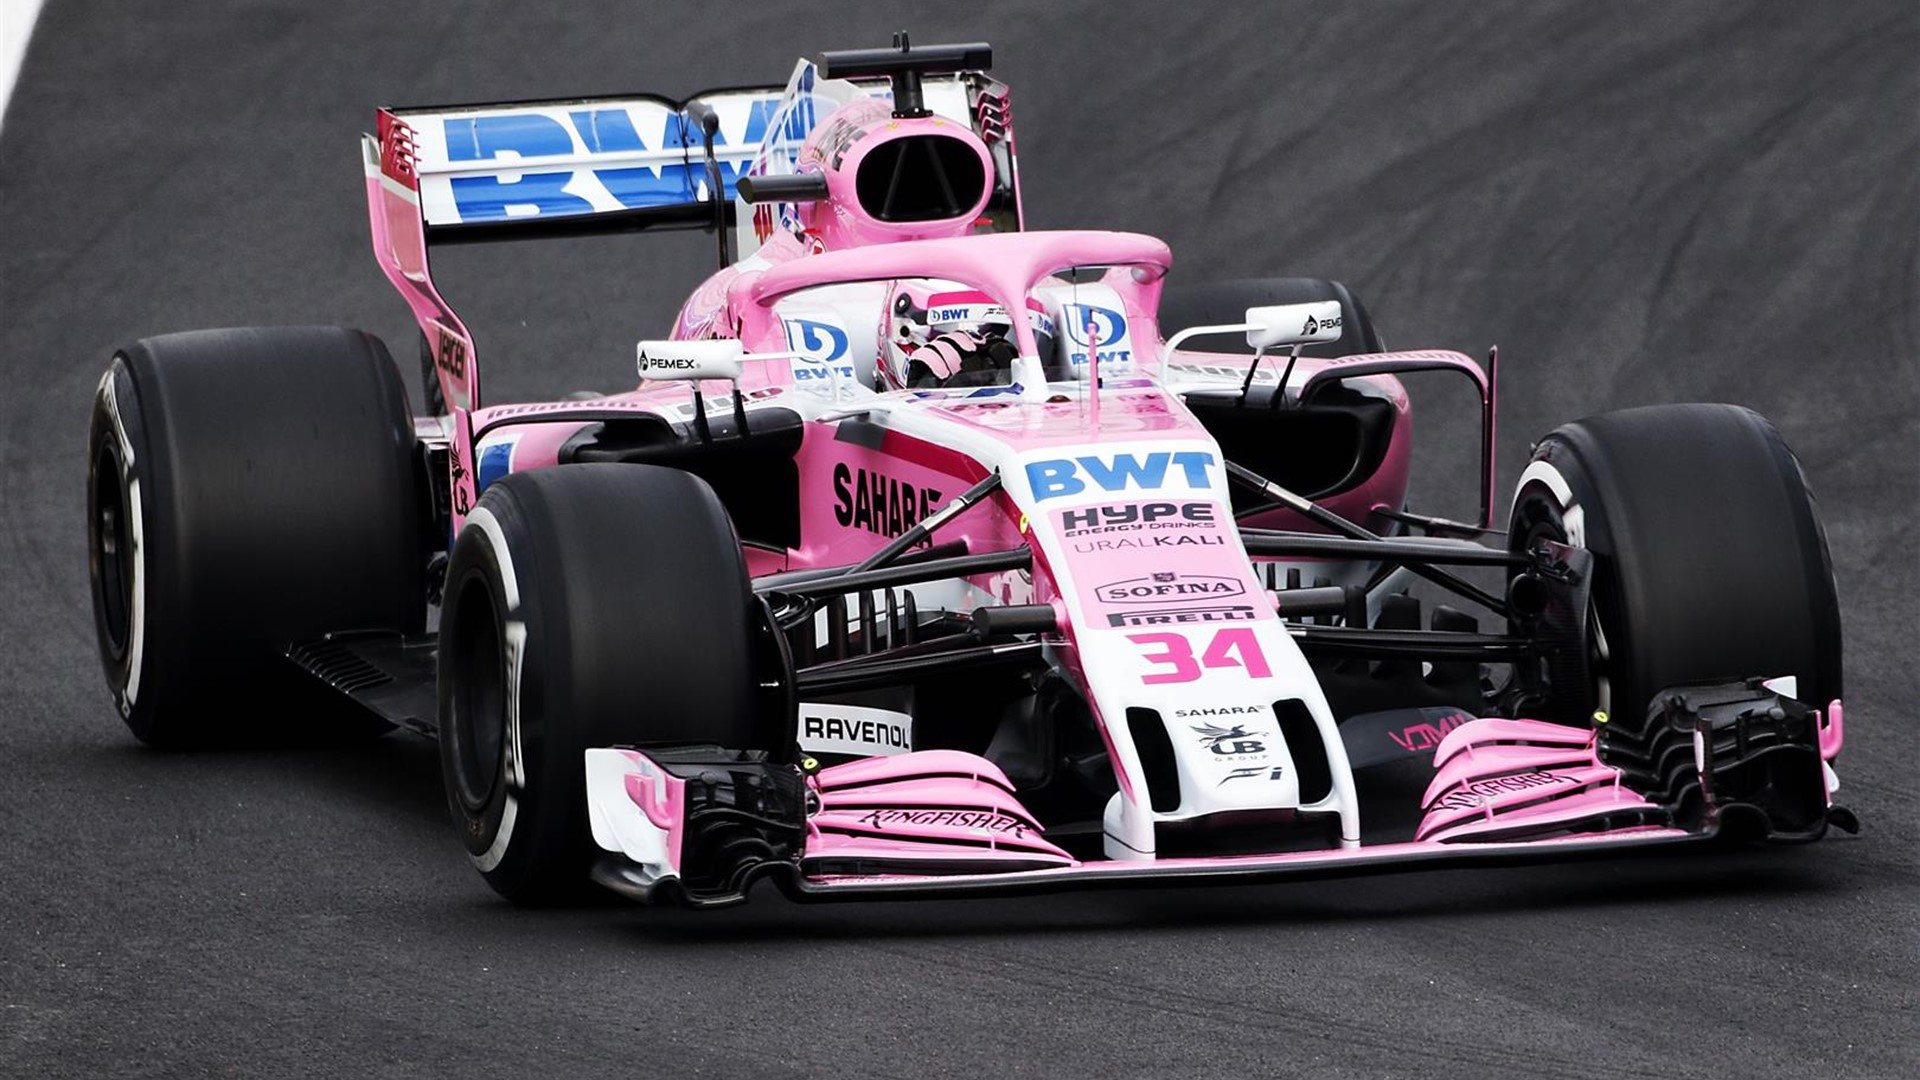f1_car: (55, 17, 1895, 959)
helmet: (876, 262, 1069, 407)
